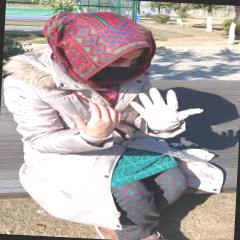gloved: (130, 88, 204, 130)
not-gloved: (70, 102, 124, 136)
